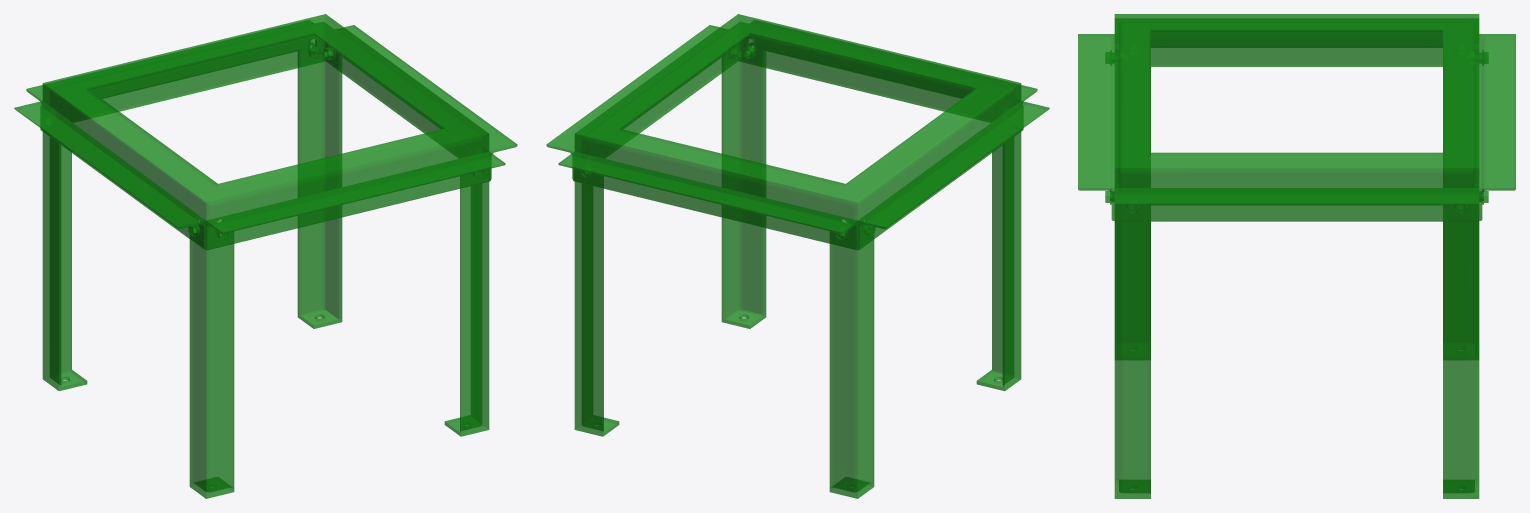
3 views of the same model, side by side, from view 1: azimuth 30°, elevation 25°; view 2: azimuth 150°, elevation 25°; view 3: azimuth 270°, elevation 25° (orthographic). The views are drawn at different scales.
Visible parts, largest first — view 1: フリアク架台; view 2: フリアク架台; view 3: フリアク架台.
Boxes of the visible parts, left/top/right/bottom form: フリアク架台: left=14, top=14, right=517, bottom=498; フリアク架台: left=546, top=14, right=1049, bottom=498; フリアク架台: left=1078, top=14, right=1515, bottom=498.
Size of the model in its own units: 0.06 by 0.05 by 0.06.
